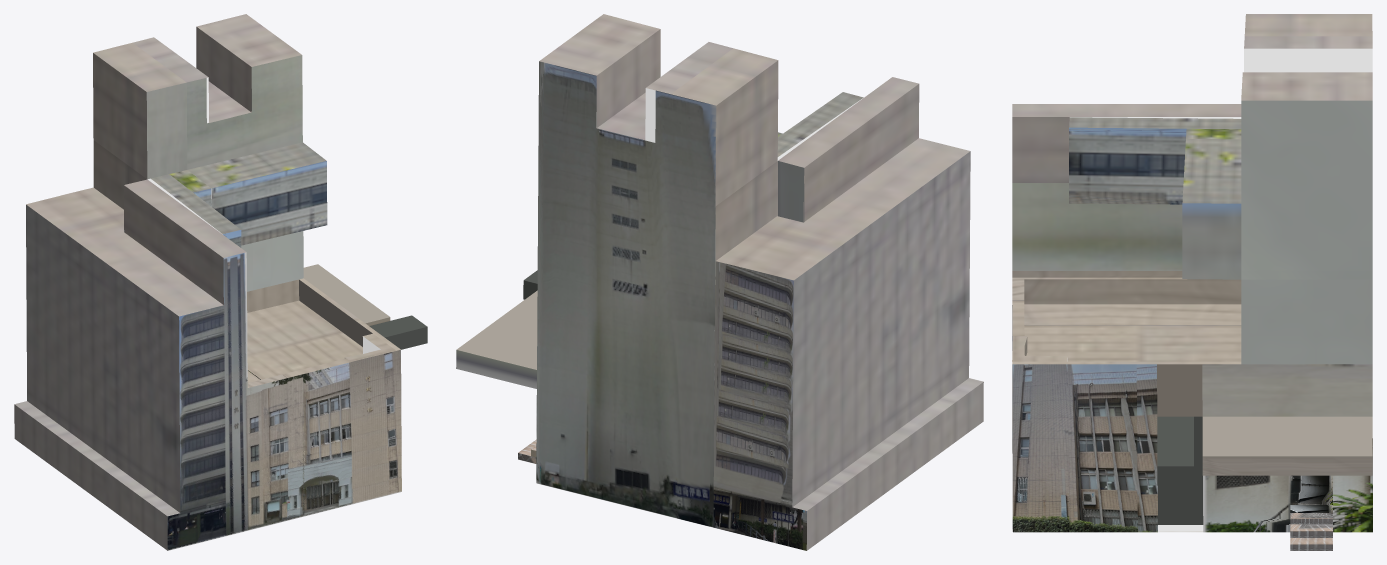
The model's file is zixun.glb.
The picture shows the model from 3 angles, left to right: view 1: azimuth 30°, elevation 25°; view 2: azimuth 150°, elevation 25°; view 3: azimuth 270°, elevation 25°; orthographic projection. The views are drawn at different scales.
Visible parts, largest first — view 1: 資訊樓; view 2: 資訊樓; view 3: 資訊樓.
Boxes of the visible parts, bbox=[...] form: 資訊樓: bbox=[14, 14, 427, 550]; 資訊樓: bbox=[456, 14, 983, 550]; 資訊樓: bbox=[1012, 14, 1372, 550].
Size of what is drawn, in the model's own units: 0.8616 by 0.9417 by 0.7121.
Materials: 5 (1 with a texture image).
